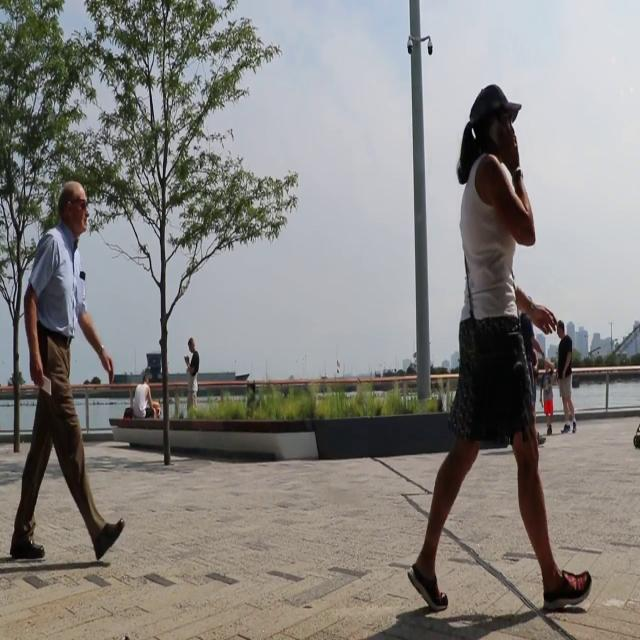normal: (403, 82, 597, 616), (13, 170, 131, 575)
